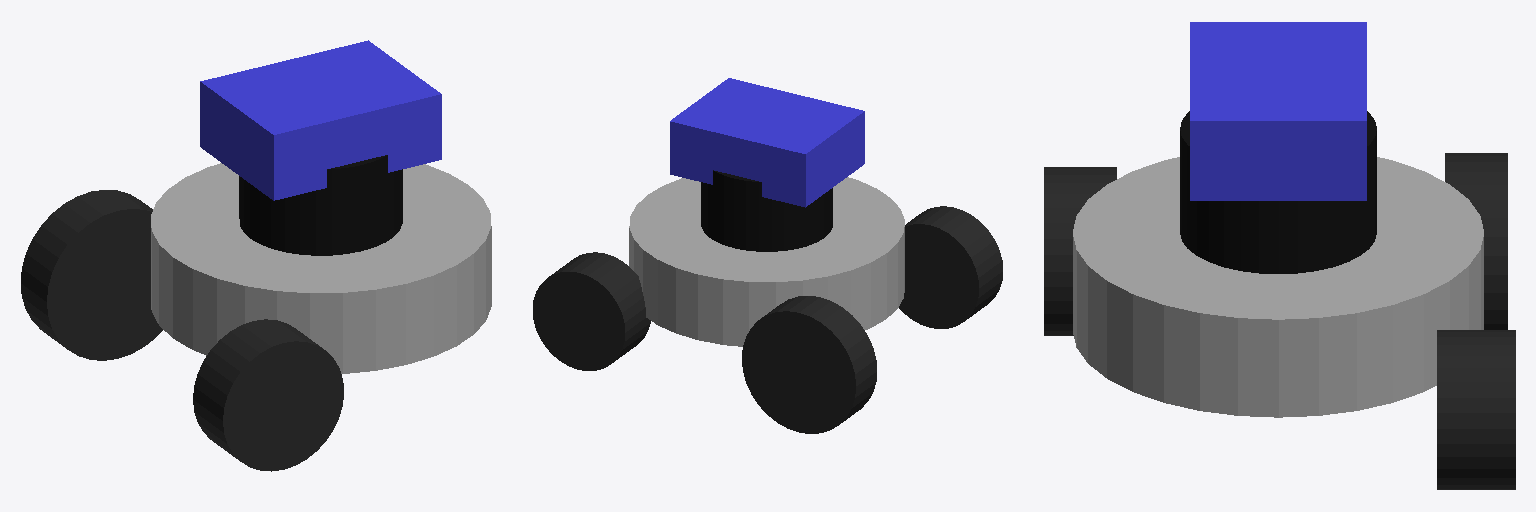
robot.urdf — evolved_robot:
<?xml version="1.0"?>
<robot name="evolved_robot">
  <material name="metal">
    <color rgba="0.7 0.7 0.7 1.0"/>
  </material>
  <material name="plastic">
    <color rgba="0.3 0.3 0.9 1.0"/>
  </material>
  <material name="rubber">
    <color rgba="0.1 0.1 0.1 1.0"/>
  </material>
  <material name="red">
    <color rgba="1.0 0.0 0.0 1.0"/>
  </material>
  <material name="wheel_material">
    <color rgba="0.2 0.2 0.2 1.0"/>
  </material>
  <link name="base_link">
    <visual>
      <geometry><cylinder radius="0.15382927939700256" length="0.08068832829829782"/></geometry>
      <material name="metal"/>
    </visual>
    <collision>
      <geometry><cylinder radius="0.15382927939700256" length="0.08068832829829782"/></geometry>
    </collision>
    <inertial>
      <mass value="5.0"/>
      <inertia ixx="0.0645841232691476" ixy="0" ixz="0" 
               iyy="0.0645841232691476" iyz="0" 
               izz="0.11831723599900537"/>
    </inertial>
  </link>
  <link name="link1">
    <visual>
      <geometry><cylinder radius="0.07361392834338261" length="0.17115775961517782"/></geometry>
      <material name="rubber"/>
    </visual>
    <collision>
      <geometry><cylinder radius="0.07361392834338261" length="0.17115775961517782"/></geometry>
    </collision>
    <inertial>
      <mass value="0.5"/>
      <inertia ixx="0.00379600083457675" ixy="0" ixz="0" 
               iyy="0.00379600083457675" iyz="0" 
               izz="0.0027095052230723345"/>
    </inertial>
  </link>
  <joint name="joint1" type="prismatic">
    <parent link="base_link"/>
    <child link="link1"/>
    <origin xyz="0 0 0.04034416414914891" rpy="0 0 0"/>
    <axis xyz="-0.5931464711903321 -0.4738167359431905 0.6509031913077378"/>
    <dynamics damping="0.7765132943335169" friction="0.1"/>
    <limit lower="-1.0513520664820588" upper="1.2616069225743036" effort="100" velocity="100"/>
  </joint>
  <link name="link2">
    <visual>
      <geometry>
        <cylinder radius="0.05978355010138645" length="0.05844196811389643"/>
      </geometry>
      <material name="wheel_material"/>
    </visual>
    <collision>
      <geometry>
        <cylinder radius="0.05978355010138645" length="0.05844196811389643"/>
      </geometry>
    </collision>
    <inertial>
      <mass value="1.0"/>
      <inertia ixx="0.0011781401854333866" ixy="0" ixz="0" 
               iyy="0.0011781401854333866" iyz="0" 
               izz="0.001787036431362492"/>
    </inertial>
  </link>
  <joint name="joint2" type="continuous">
    <parent link="base_link"/>
    <child link="link2"/>
    <origin xyz="0.13985519542031713 0.147803363373688 -0.04034416414914891" rpy="1.5708 0 0"/>
    <axis xyz="0 1 0"/>
    <dynamics damping="0.6237323492205411" friction="0.1"/>
  </joint>
  <link name="link3">
    <visual>
      <geometry><cylinder radius="0.06992649016010882" length="0.052851479769380164"/></geometry>
      <material name="metal"/>
    </visual>
    <collision>
      <geometry><cylinder radius="0.06992649016010882" length="0.052851479769380164"/></geometry>
    </collision>
    <inertial>
      <mass value="0.5"/>
      <inertia ixx="0.0014552017493457156" ixy="0" ixz="0" 
               iyy="0.0014552017493457156" iyz="0" 
               izz="0.002444857013055898"/>
    </inertial>
  </link>
  <joint name="joint3" type="revolute">
    <parent link="base_link"/>
    <child link="link3"/>
    <origin xyz="0 0 0.09034416414914892" rpy="0 0 0"/>
    <axis xyz="-0.44042942929741047 0.7937768989942029 -0.41945220518183507"/>
    <dynamics damping="0.8416779145876575" friction="0.1"/>
    <limit lower="-0.7345191566587939" upper="1.2169395730998822" effort="100" velocity="100"/>
  </joint>
  <link name="link4">
    <visual>
      <geometry>
        <cylinder radius="0.07364674738813795" length="0.0474288740082876"/>
      </geometry>
      <material name="wheel_material"/>
    </visual>
    <collision>
      <geometry>
        <cylinder radius="0.07364674738813795" length="0.0474288740082876"/>
      </geometry>
    </collision>
    <inertial>
      <mass value="1.0"/>
      <inertia ixx="0.0015434190243542192" ixy="0" ixz="0" 
               iyy="0.0015434190243542192" iyz="0" 
               izz="0.002711921700426102"/>
    </inertial>
  </link>
  <joint name="joint4" type="continuous">
    <parent link="base_link"/>
    <child link="link4"/>
    <origin xyz="-0.13985519542031713 0.147803363373688 -0.04034416414914891" rpy="1.5708 0 0"/>
    <axis xyz="0 1 0"/>
    <dynamics damping="0.4452985084493982" friction="0.1"/>
  </joint>
  <link name="link5">
    <visual>
      <geometry><box size="0.17494639463942896 0.13218542554824703 0.0653079719149393"/></geometry>
      <material name="plastic"/>
    </visual>
    <collision>
      <geometry><box size="0.17494639463942896 0.13218542554824703 0.0653079719149393"/></geometry>
    </collision>
    <inertial>
      <mass value="0.5"/>
      <inertia ixx="0.001811509826917805" ixy="0" ixz="0" 
               iyy="0.00290594768274811" iyz="0" 
               izz="0.004006602310392165"/>
    </inertial>
  </link>
  <joint name="joint5" type="revolute">
    <parent link="base_link"/>
    <child link="link5"/>
    <origin xyz="0 0 0.1403441641491489" rpy="0 0 0"/>
    <axis xyz="-0.6775291648128731 0.26977987840232037 0.6842317210106531"/>
    <dynamics damping="0.9085849821180177" friction="0.1"/>
    <limit lower="-0.9449634106549294" upper="1.0316253842274055" effort="100" velocity="100"/>
  </joint>
  <link name="link6">
    <visual>
      <geometry>
        <cylinder radius="0.06308729785767267" length="0.05400195749273819"/>
      </geometry>
      <material name="wheel_material"/>
    </visual>
    <collision>
      <geometry>
        <cylinder radius="0.06308729785767267" length="0.05400195749273819"/>
      </geometry>
    </collision>
    <inertial>
      <mass value="1.0"/>
      <inertia ixx="0.0012380194054996362" ixy="0" ixz="0" 
               iyy="0.0012380194054996362" iyz="0" 
               izz="0.0019900035754913553"/>
    </inertial>
  </link>
  <joint name="joint6" type="continuous">
    <parent link="base_link"/>
    <child link="link6"/>
    <origin xyz="-0.13985519542031713 -0.147803363373688 -0.04034416414914891" rpy="1.5708 0 0"/>
    <axis xyz="0 1 0"/>
    <dynamics damping="0.9112450712681742" friction="0.1"/>
  </joint>
</robot>

--- What the picture shows (computed from the rendered views, not written in the file) ---
The picture shows the robot from 3 angles, left to right: view 1: azimuth 30°, elevation 25°; view 2: azimuth 150°, elevation 25°; view 3: azimuth 270°, elevation 25°; orthographic projection.
Model evolved_robot with 7 links and 6 joints (2 revolute, 3 continuous, 1 prismatic), rooted at base_link, posed all joints at 0.
Links seen in each view (by area): view 1: base_link, link5, link4, link6, link1; view 2: base_link, link5, link4, link2, link6, link1; view 3: base_link, link5, link1, link2, link6, link4.
Link boxes in pixels (<box>): base_link: <box>151,163,491,373</box>; link5: <box>200,40,441,200</box>; link4: <box>21,190,162,360</box>; link6: <box>193,319,343,471</box>; link1: <box>239,155,402,255</box>; base_link: <box>629,177,904,346</box>; link5: <box>670,78,864,207</box>; link4: <box>742,296,876,433</box>; link2: <box>533,252,650,370</box>; link6: <box>899,206,1002,328</box>; link1: <box>701,170,832,251</box>; base_link: <box>1073,157,1483,417</box>; link5: <box>1190,22,1366,200</box>; link1: <box>1180,111,1376,273</box>; link2: <box>1437,330,1515,489</box>; link6: <box>1044,167,1116,335</box>; link4: <box>1445,153,1507,329</box>.
Size in the robot's own frame: 0.4131 by 0.3518 by 0.287 metres.
Geometry: primitives only (box / cylinder / sphere), no mesh files.